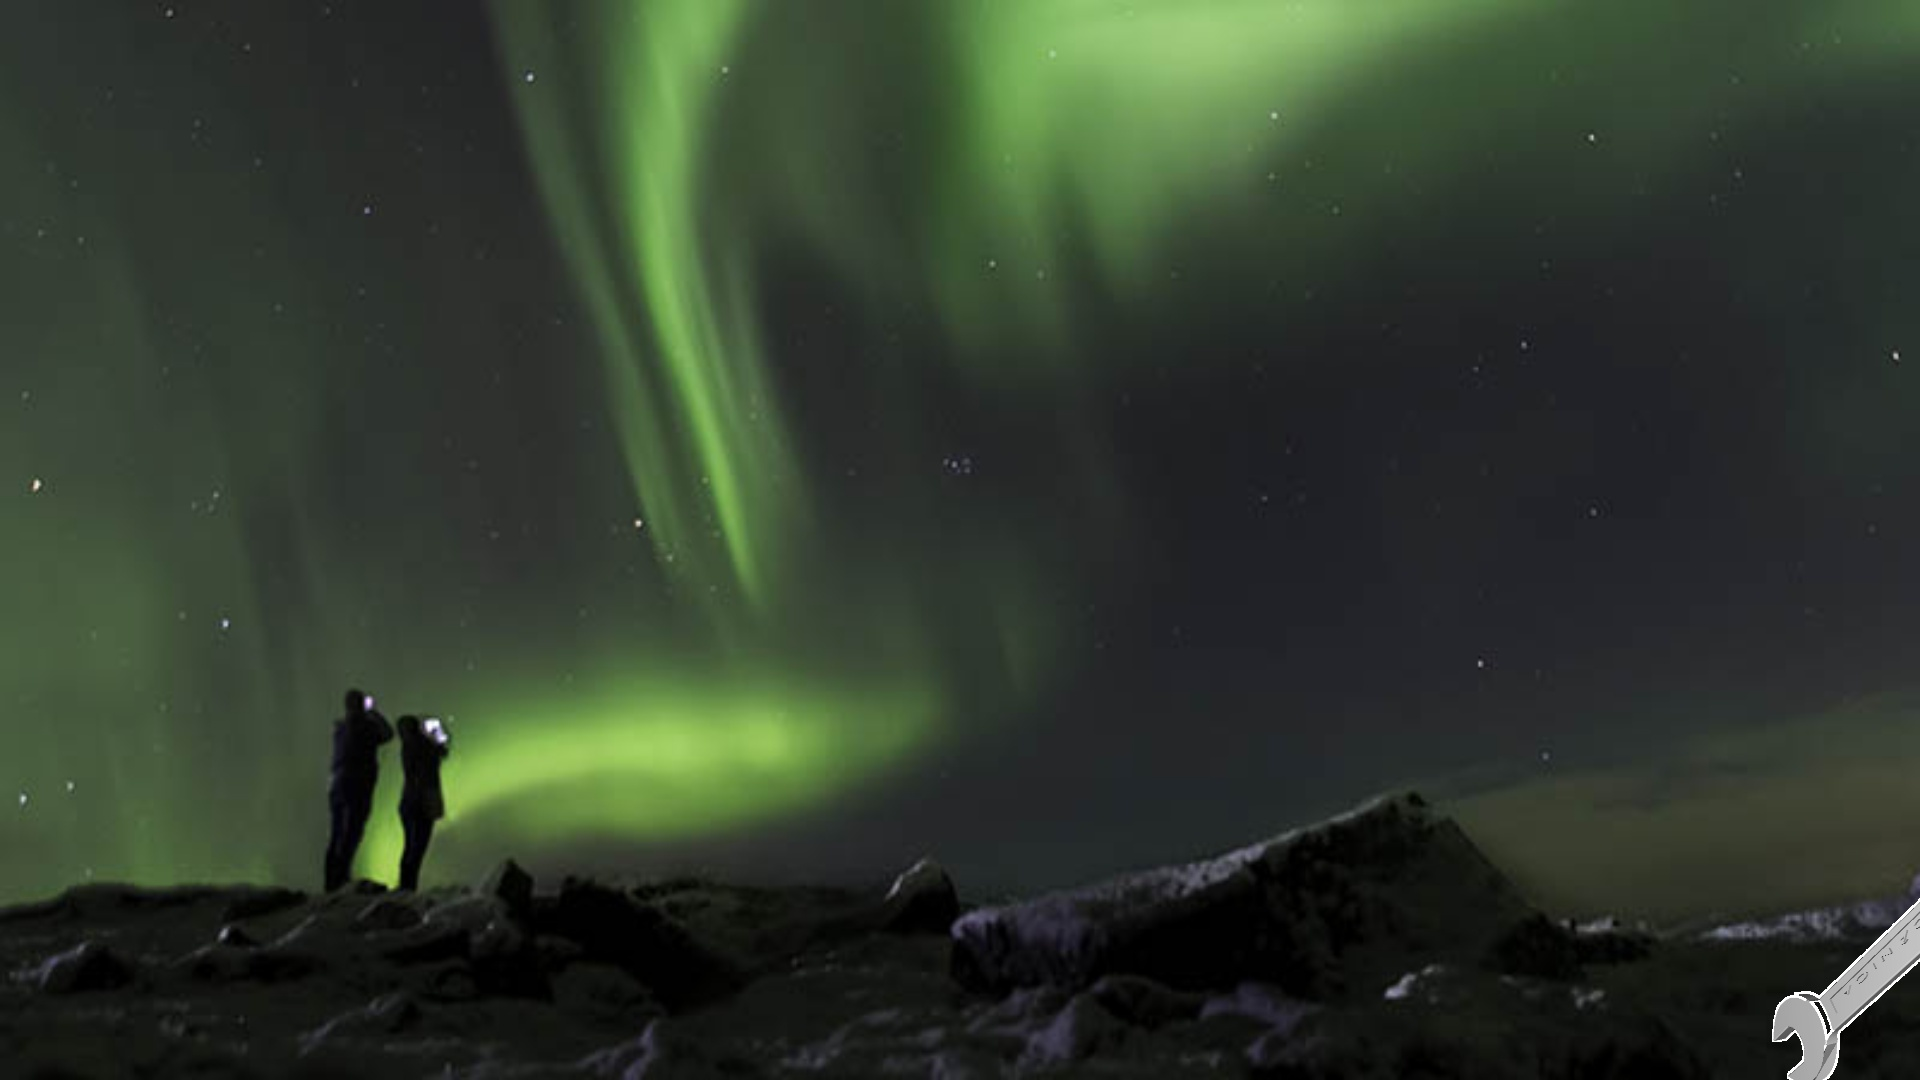Mixed Key: (1772, 898, 1919, 1079)
